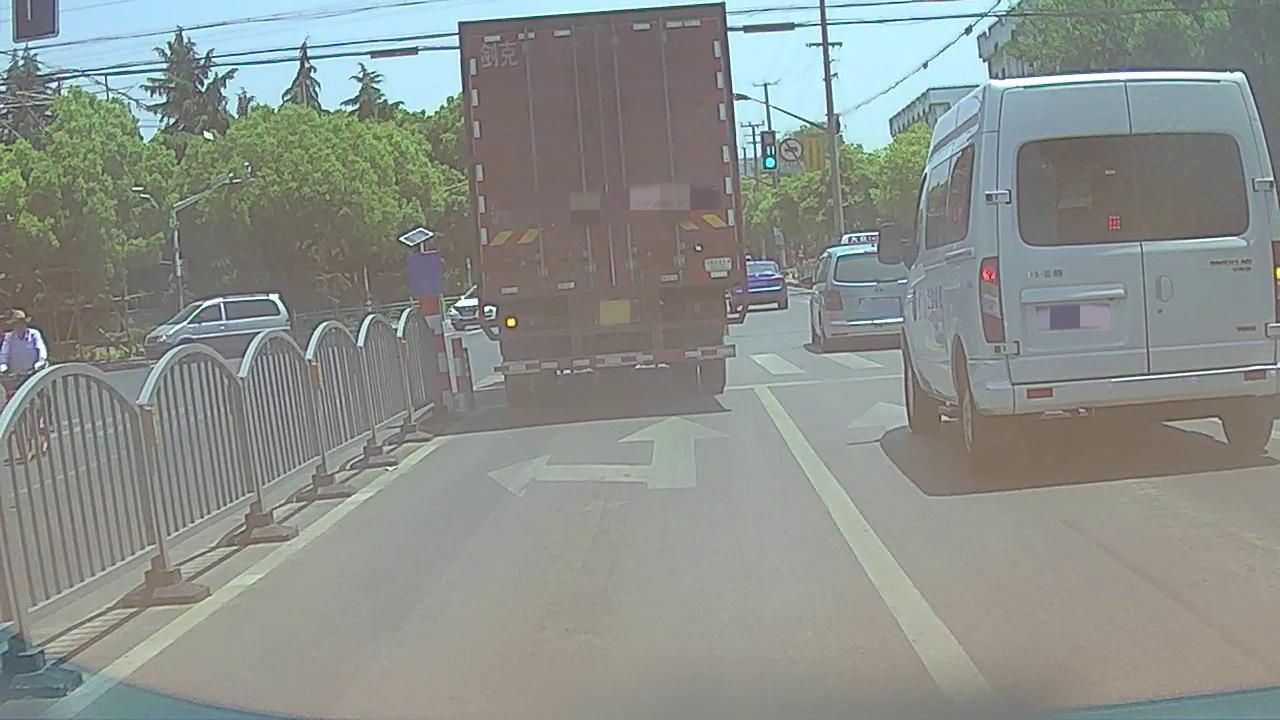traffic_light: (762, 133, 776, 171)
